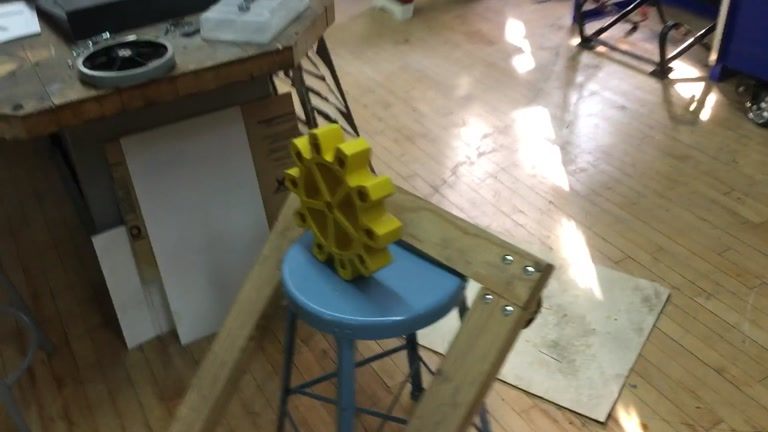gear: (283, 123, 402, 283)
